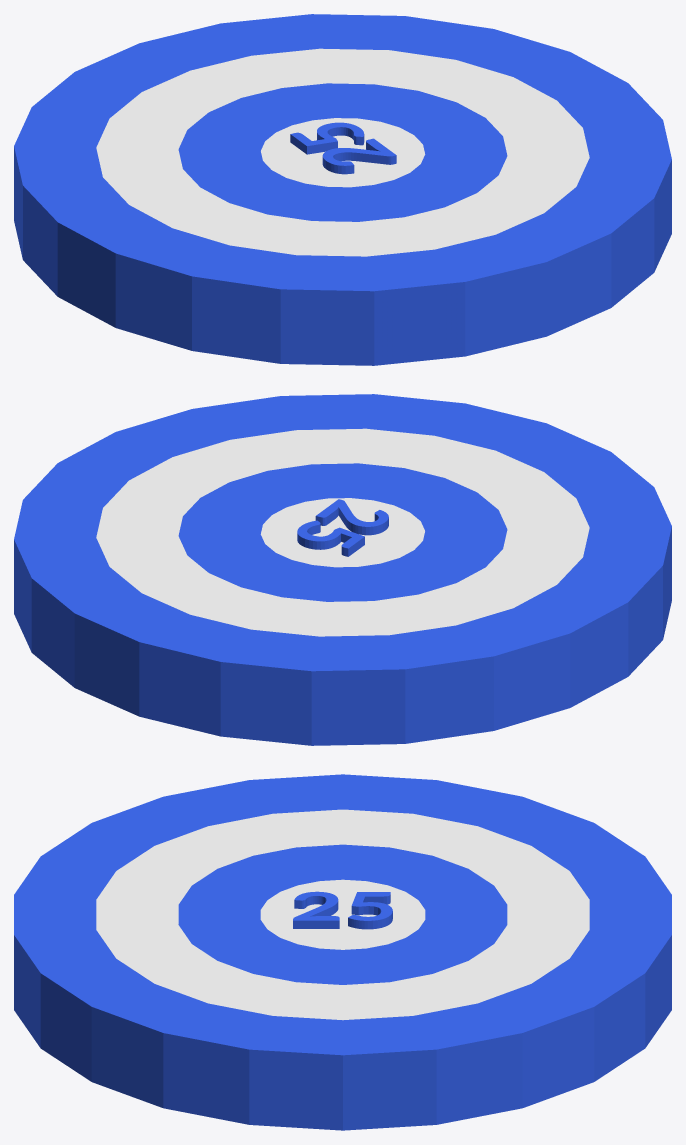
File: Target25.fbx
3 views of the same model, one above another, from view 1: azimuth 30°, elevation 25°; view 2: azimuth 150°, elevation 25°; view 3: azimuth 270°, elevation 25° (orthographic).
Visible parts, largest first — view 1: divide1; view 2: divide1; view 3: divide1.
Part boxes in pixels (bbox=[...]): divide1: bbox=[14, 14, 671, 365]; divide1: bbox=[14, 394, 671, 745]; divide1: bbox=[14, 774, 671, 1130].
Bounding box in the file's own units: 1 × 0.1391 × 0.9898.
